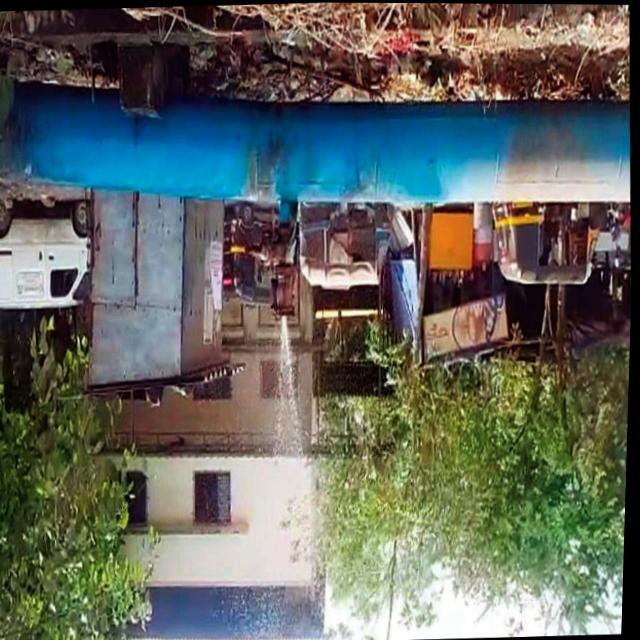leak: (278, 317, 299, 453)
